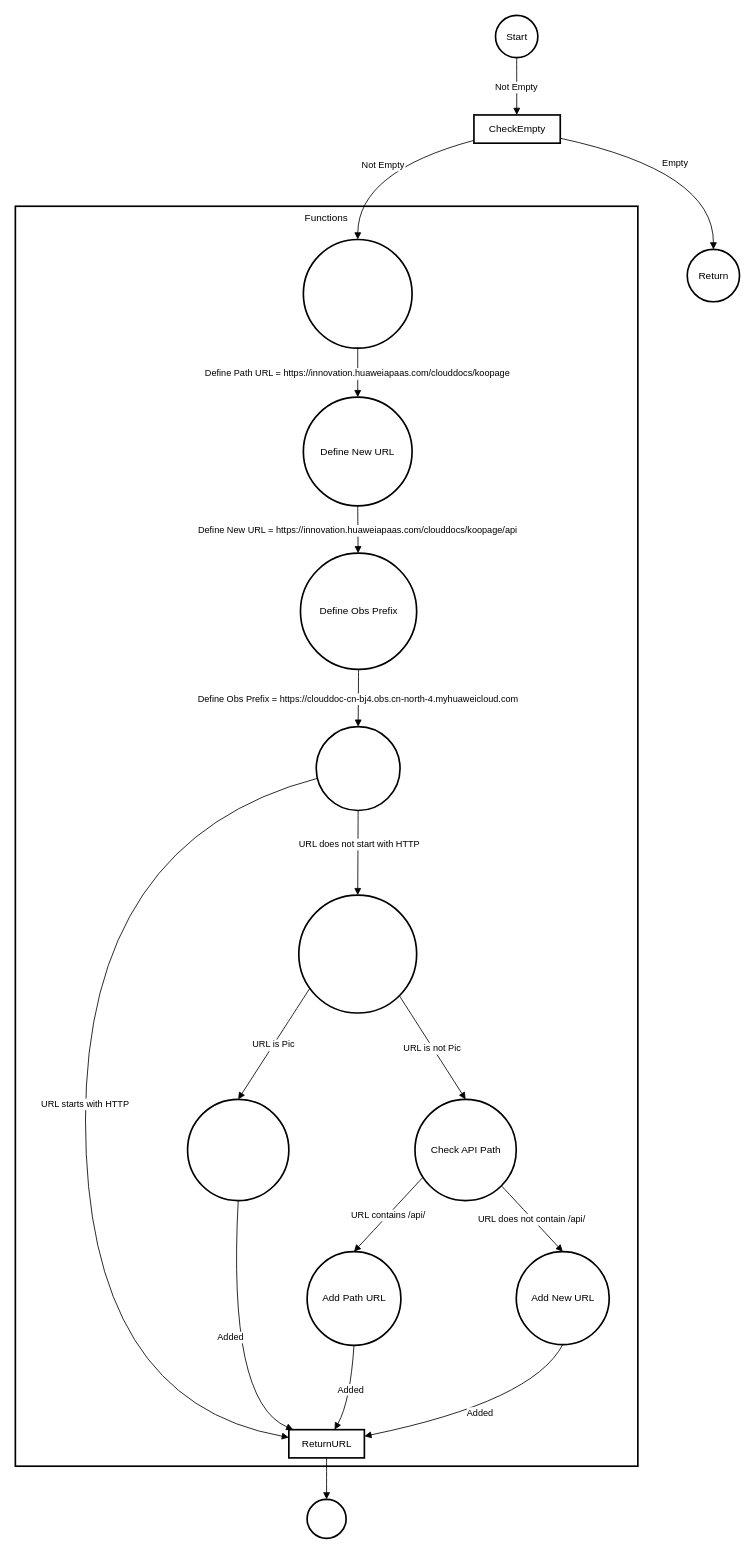
Some shapes in this 754 by 1553 pixel diagram are drawn without their labels. The shapes that lost their labels are listed below. From the top down, each one's centre as x and y in pixels, then its label:
the point at 357,293: Define Path URL
the point at 357,768: Check HTTP
the point at 357,953: Check Is Pic Func
the point at 237,1149: Add Obs Prefix
the point at 326,1518: Stop
